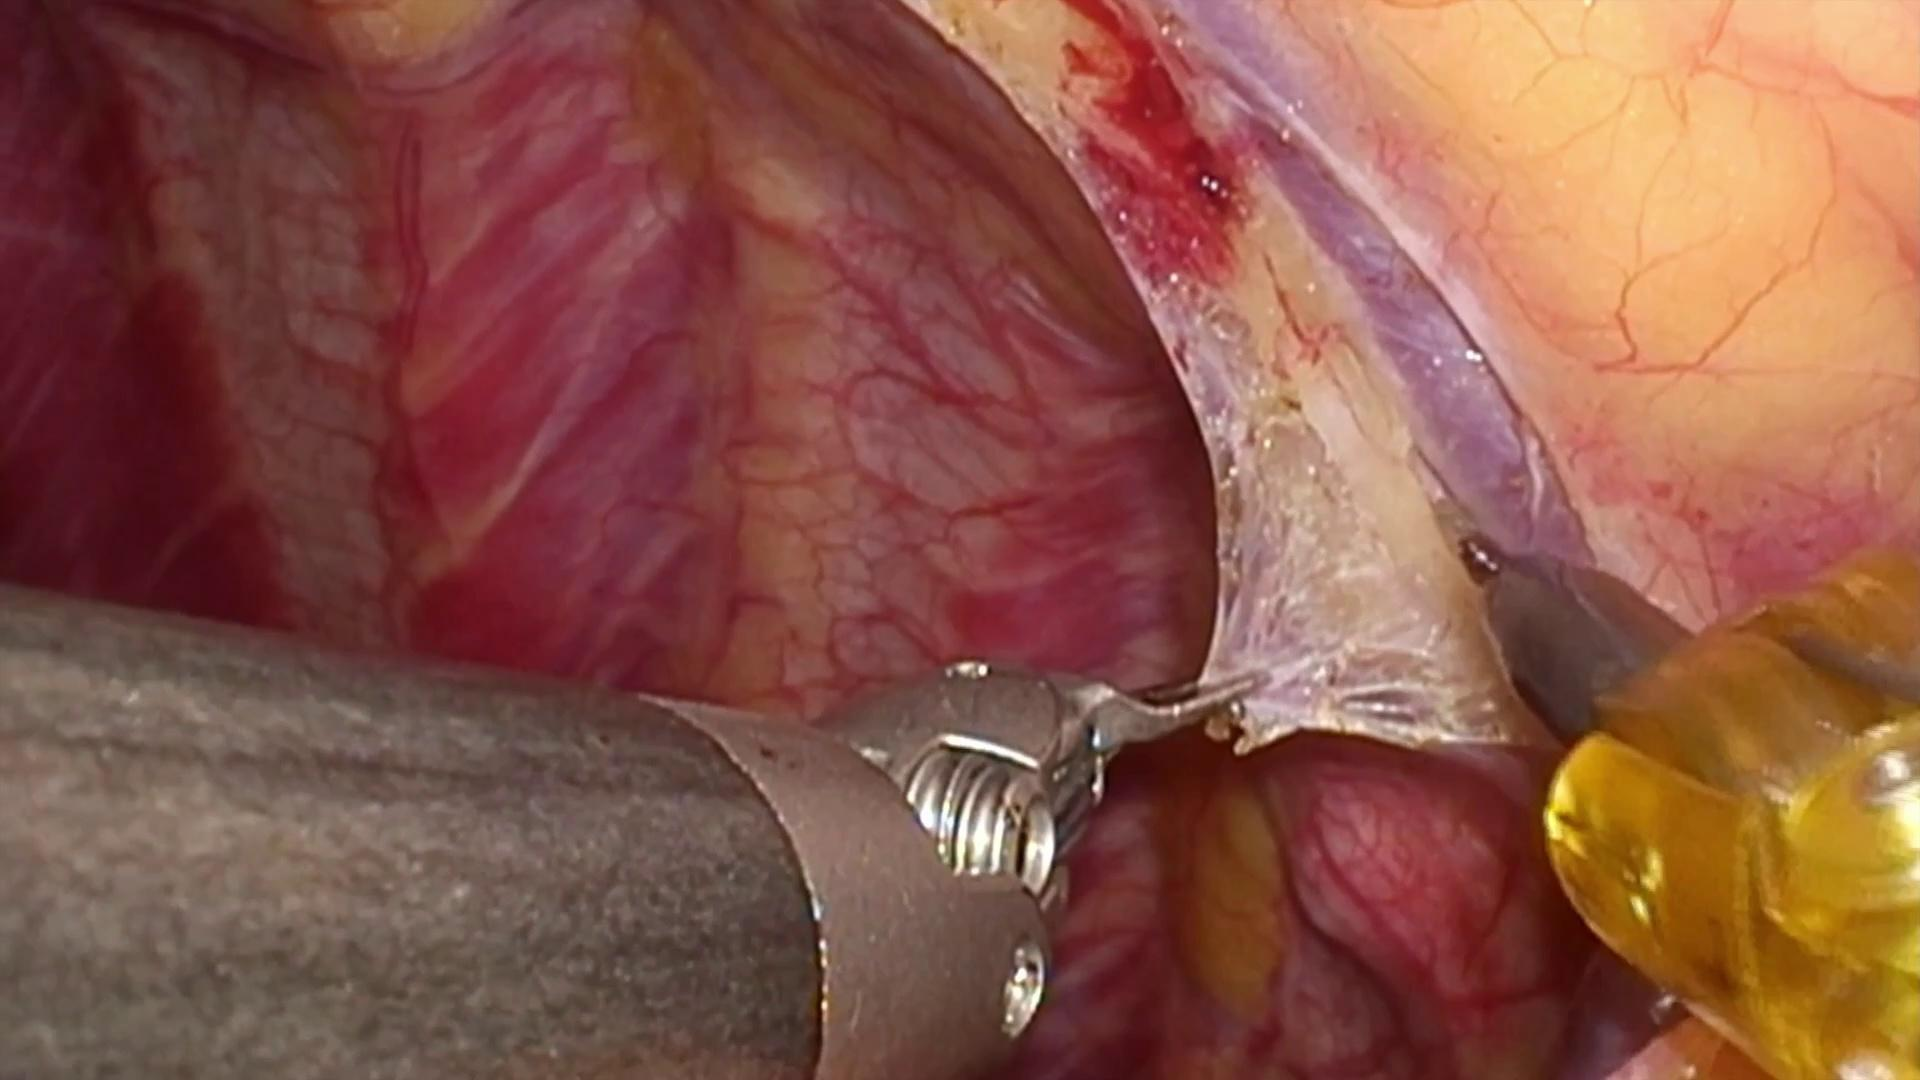Cautery_Spatula: (1425, 480, 1697, 765)
Debakey: (1056, 665, 1278, 796)
